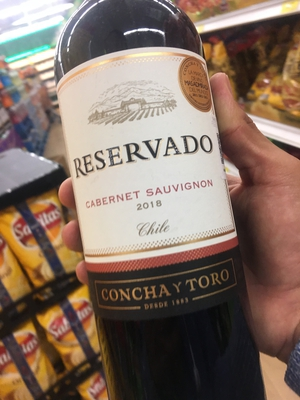reservado cabernet sauvignon: (50, 1, 265, 400)
